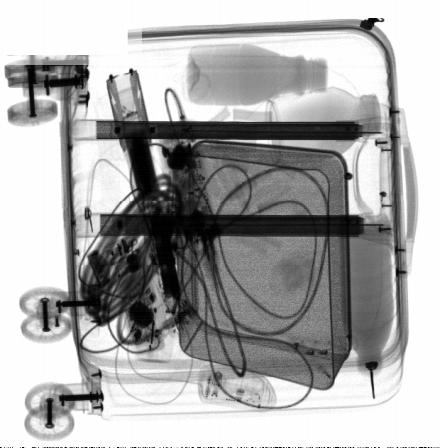Baton: (105, 68, 200, 335)
